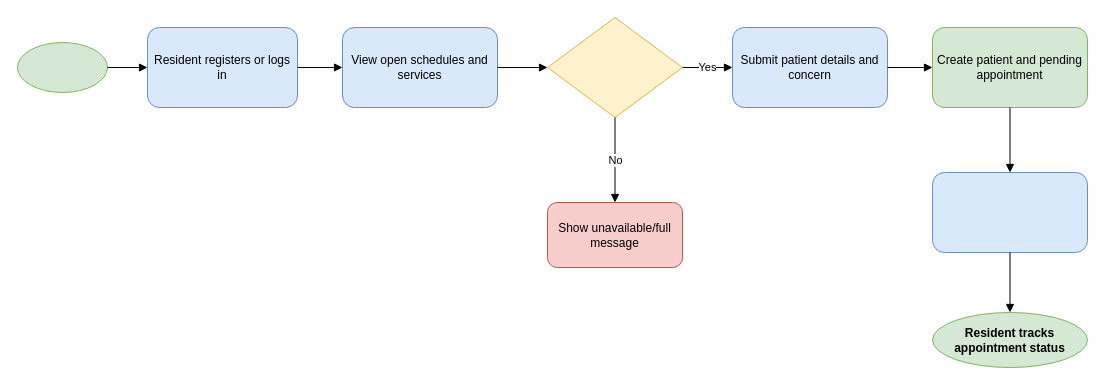
Image size: 1105x385. Some labels were removed from this diagram. Here are the shapes that lost their labels. From the top down, the box of each, then its label:
(16, 42, 108, 92): Start
(546, 16, 682, 118): Schedule available and has a slot?
(932, 172, 1088, 252): Admin reviews, updates status, and adds remarks
